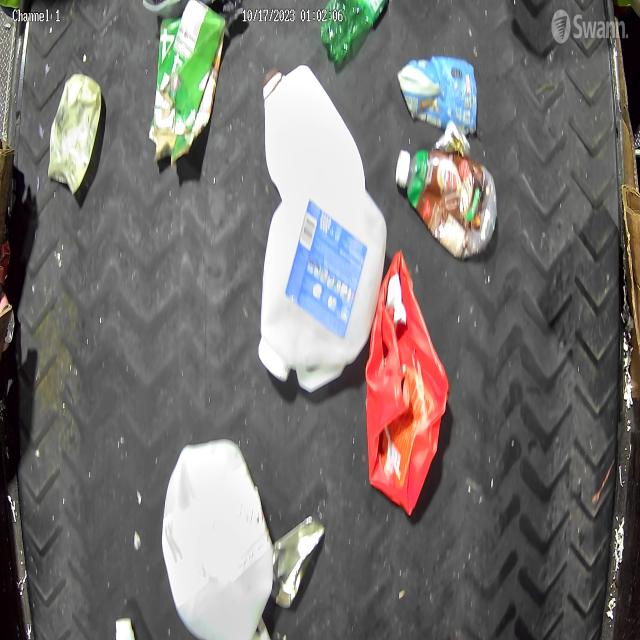can: (272, 517, 325, 606)
milk_jug: (259, 192, 383, 392), (162, 437, 276, 639), (262, 64, 365, 194)
non_white_jug: (366, 248, 450, 516)
